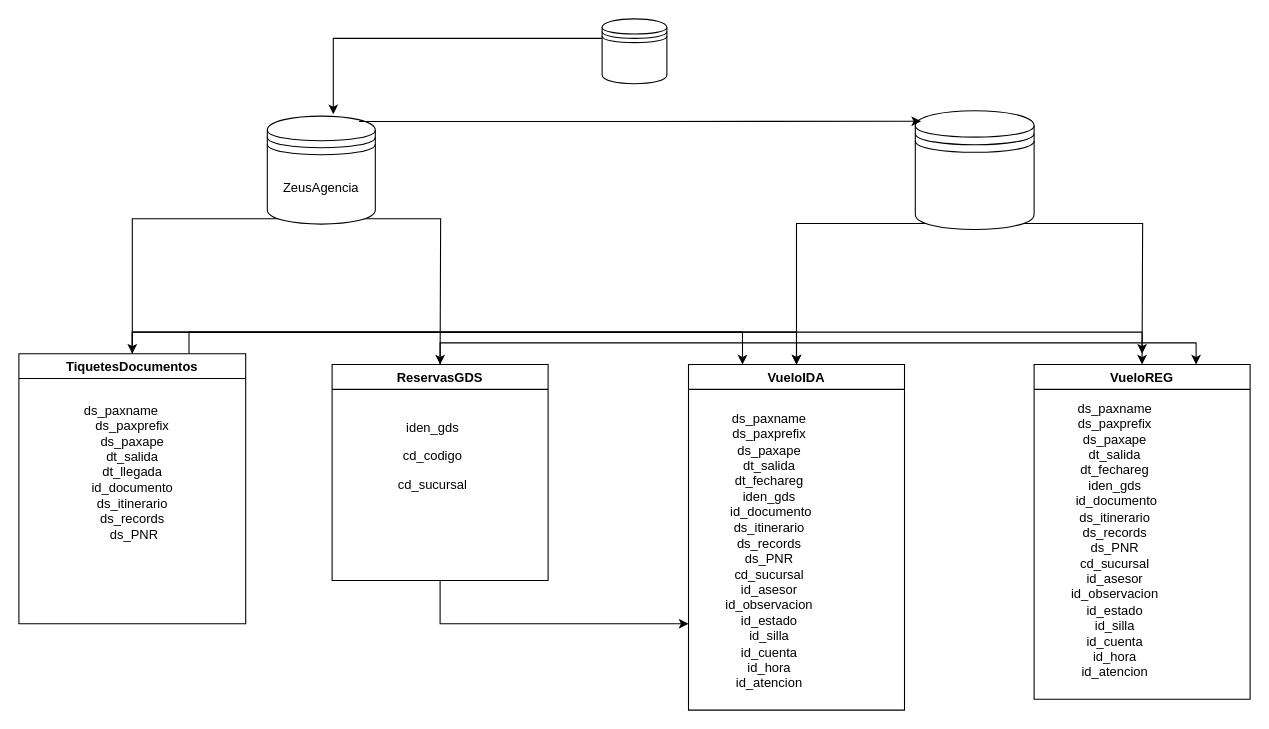
Image size: 1269x729. Some labels were removed from this diagram. Each missing label, with the centre of its shape:
"Aeropuerto" belongs at (974,170).
"JOB" belongs at (634,51).
